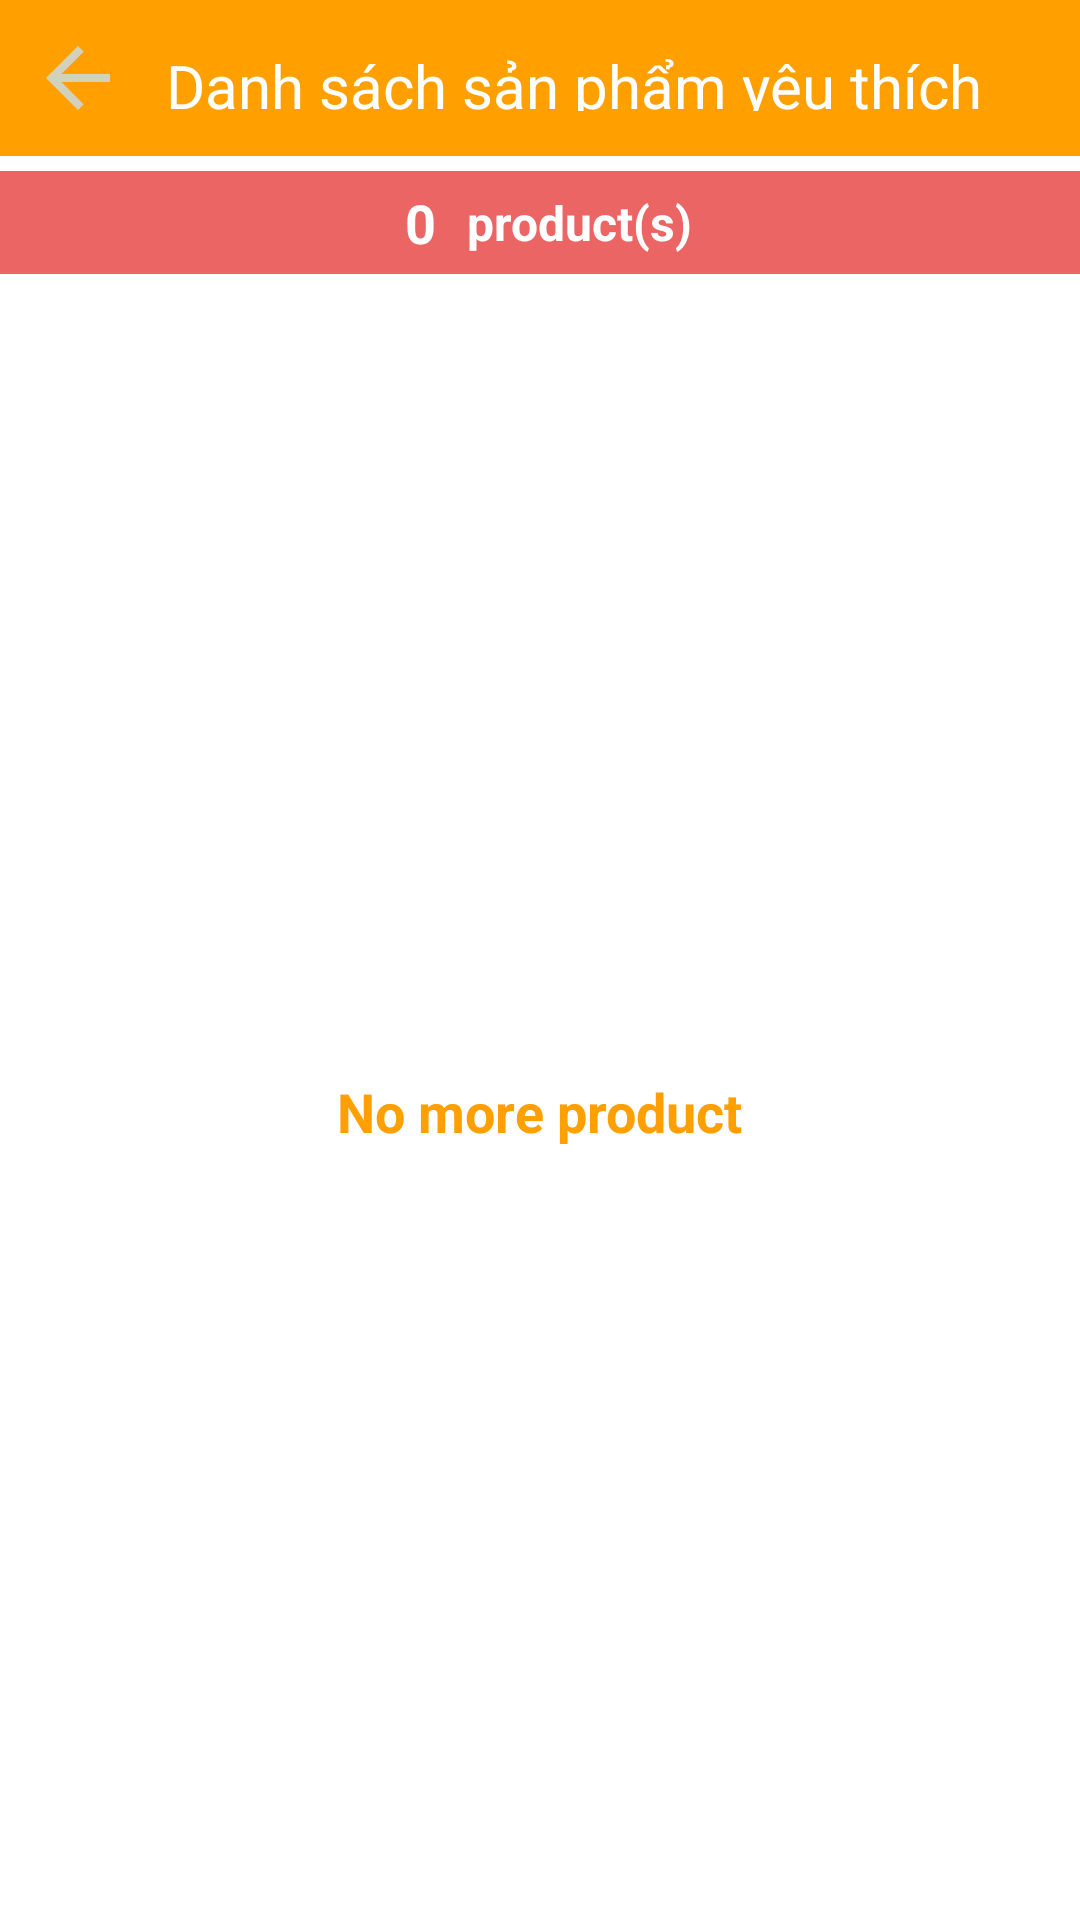

Icons on this 1080 × 1920 Android screen, each with the point to tap as point (x, y):
arrow back: point (78, 78)
